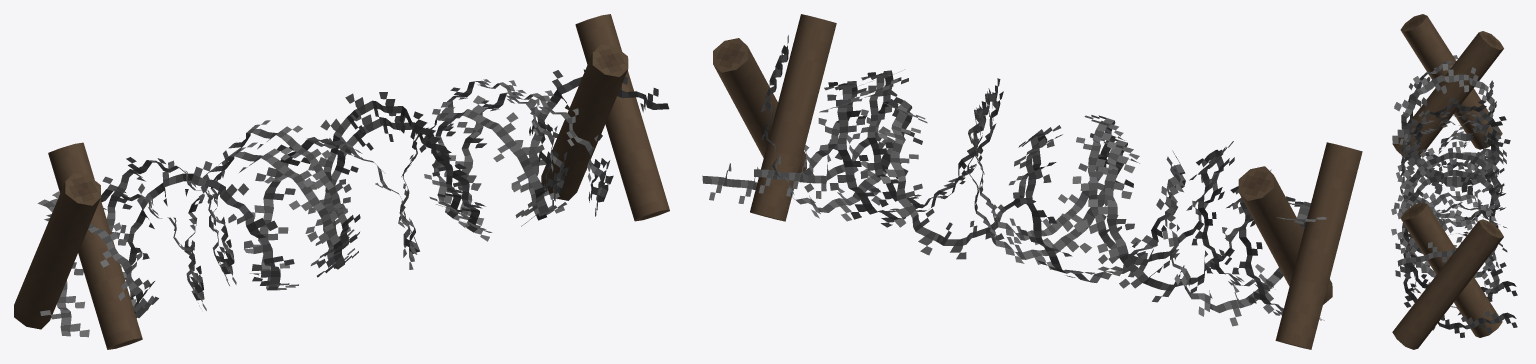
The model's file is BarbedWires.fbx.
3 renders of one model, left to right at view 1: azimuth 30°, elevation 25°; view 2: azimuth 150°, elevation 25°; view 3: azimuth 270°, elevation 25°, orthographic. The views are drawn at different scales.
Visible parts, largest first — view 1: BarbedWire, BarbedWireSimple; view 2: BarbedWire, BarbedWireSimple; view 3: BarbedWire, BarbedWireSimple.
Boxes of the visible parts, x1=… form: BarbedWire: x1=14, y1=14, x2=669, y2=349; BarbedWireSimple: x1=37, y1=69, x2=669, y2=337; BarbedWire: x1=713, y1=14, x2=1362, y2=349; BarbedWireSimple: x1=702, y1=35, x2=1326, y2=326; BarbedWire: x1=1391, y1=14, x2=1517, y2=349; BarbedWireSimple: x1=1391, y1=55, x2=1517, y2=337.
Bounding box in the file's own units: 200 × 59.56 × 51.75.
1 material, 1 textured.
